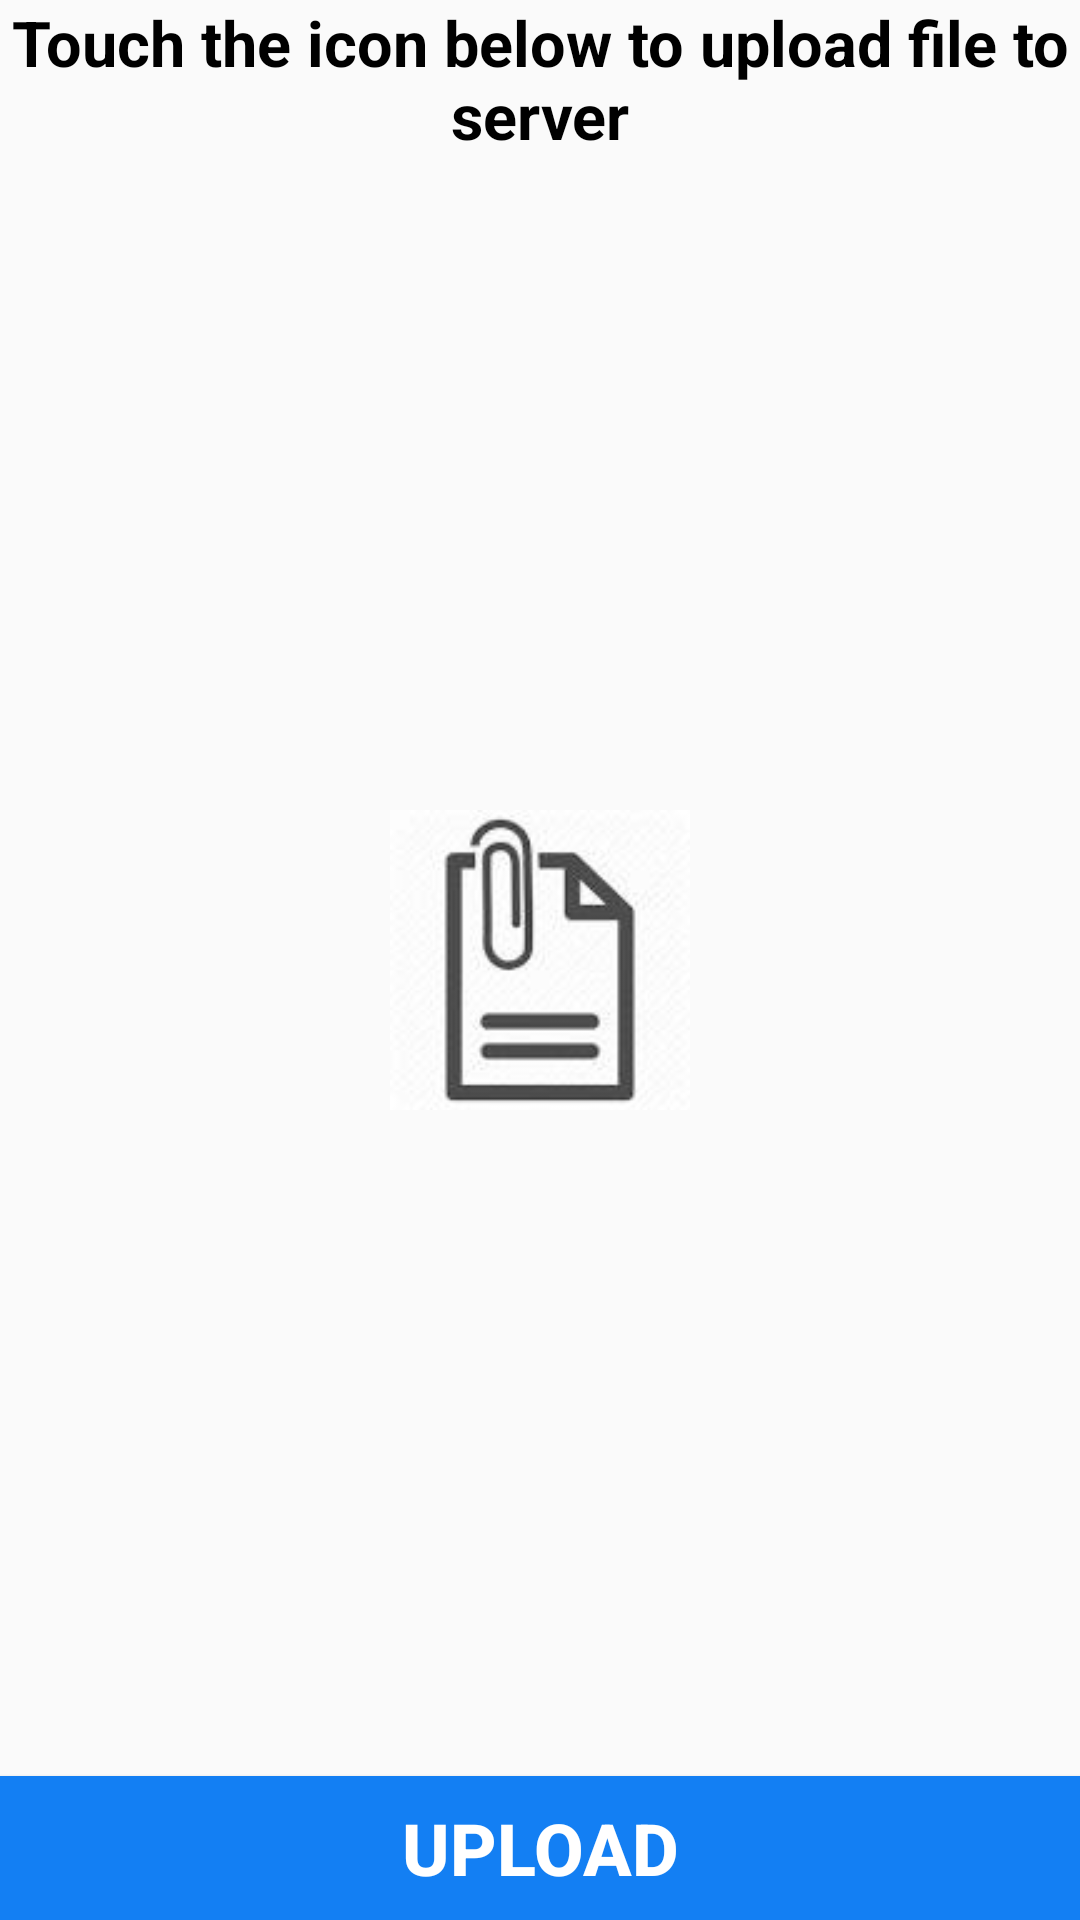

Locate icon controls on the screen. Image size 1080px×1920px, boxes as detection(x1, y1, x2, y2).
attach: detection(444, 818, 636, 1102)
